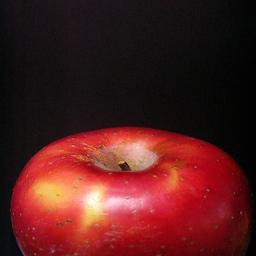apple: (8, 126, 256, 256)
